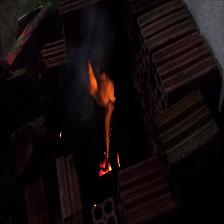fire: (66, 51, 139, 182)
